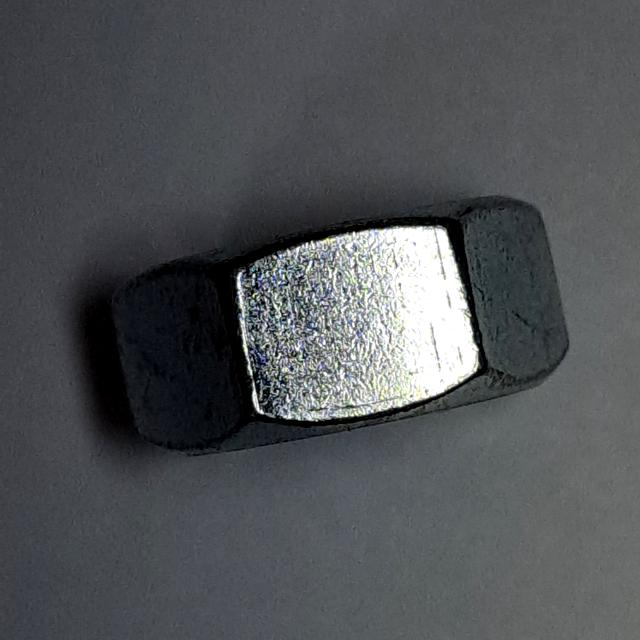Side_Excellent: (96, 175, 583, 473)
